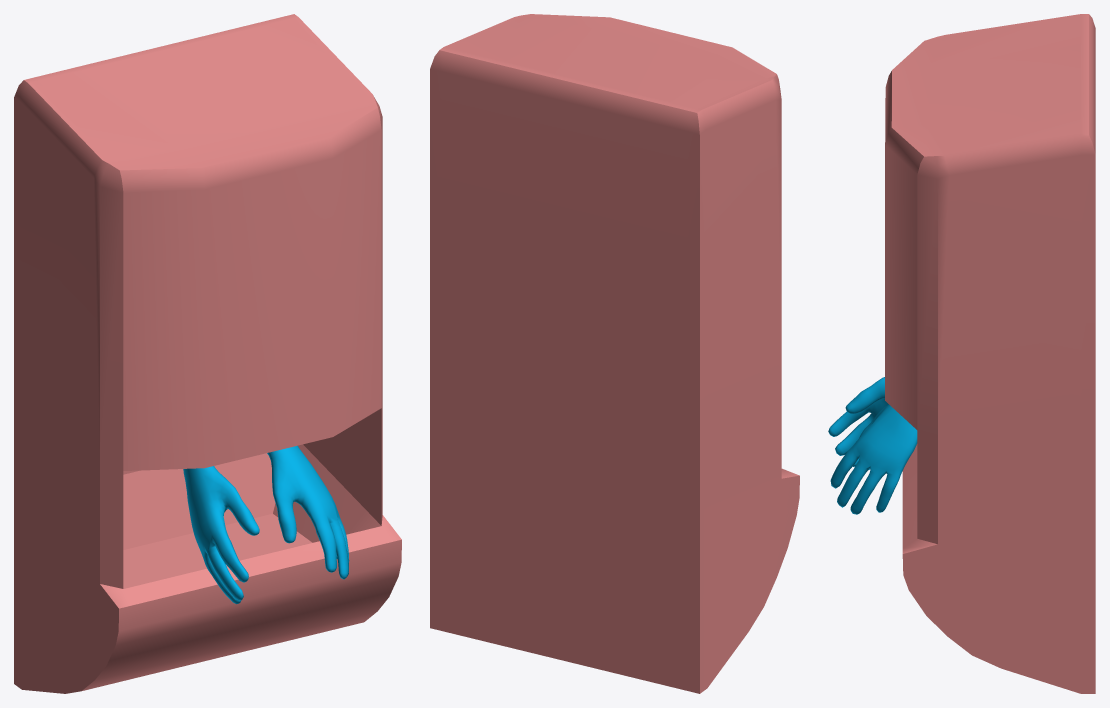
The model's file is GlovesDispenser.fbx.
The picture shows the model from 3 angles, left to right: view 1: azimuth 30°, elevation 25°; view 2: azimuth 150°, elevation 25°; view 3: azimuth 270°, elevation 25°; orthographic projection. The views are drawn at different scales.
Parts seen in each view (by area): view 1: Dispenser, Gloves; view 2: Dispenser; view 3: Dispenser, Gloves.
Part boxes in pixels (x1,y1,x2,y2): Dispenser: (14, 14, 401, 693); Gloves: (183, 445, 349, 604); Dispenser: (430, 14, 799, 693); Dispenser: (885, 14, 1095, 693); Gloves: (828, 377, 917, 514).
Size of the model in its own units: 48.76 by 99.64 by 43.42.
